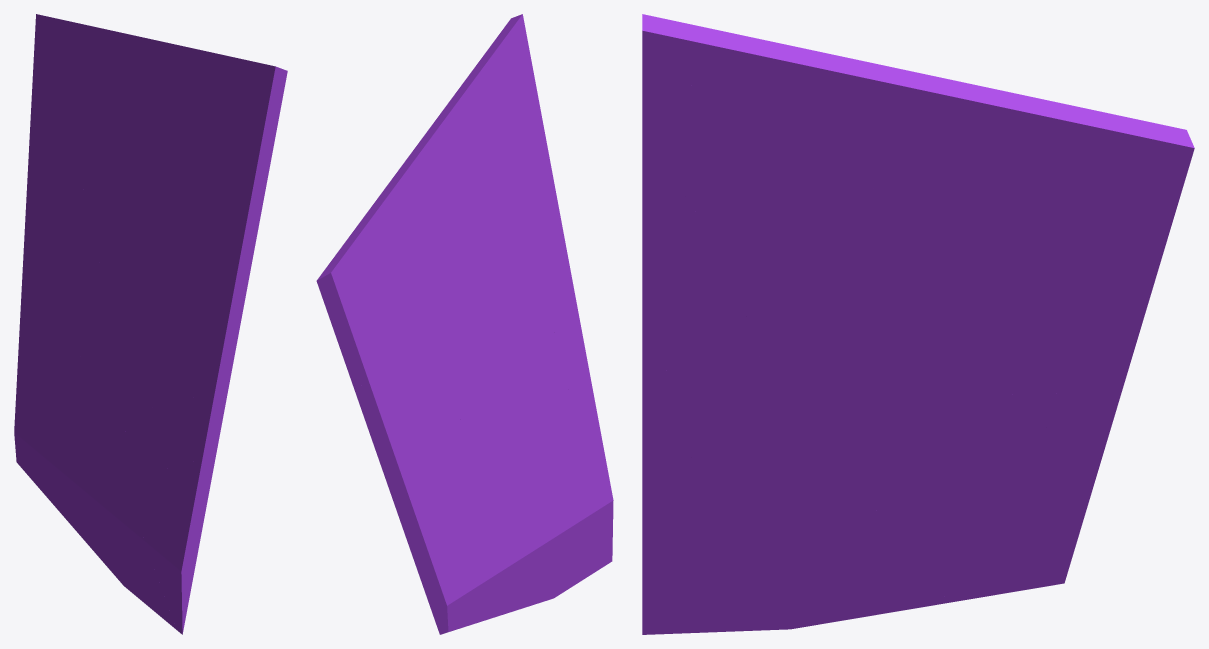
File: Window_1_7_chunks.fbx
3 views of the same model, side by side, from view 1: azimuth 30°, elevation 25°; view 2: azimuth 150°, elevation 25°; view 3: azimuth 270°, elevation 25° (orthographic). The views are drawn at different scales.
Parts seen in each view (by area): view 1: Window_1_7_7, Window_1_7_26, Window_1_7_6, Window_1_7_22, Window_1_7_17, Window_1_7_0, Window_1_7_19, Window_1_7_3, Window_1_7_20, Window_1_7_21, Window_1_7_24, Window_1_7_8 (+12 smaller); view 2: Window_1_7_7, Window_1_7_26, Window_1_7_6, Window_1_7_0, Window_1_7_3, Window_1_7_17, Window_1_7_19, Window_1_7_22, Window_1_7_20, Window_1_7_24, Window_1_7_8, Window_1_7_21 (+12 smaller); view 3: Window_1_7_7, Window_1_7_6, Window_1_7_26, Window_1_7_3, Window_1_7_2, Window_1_7_17, Window_1_7_22, Window_1_7_19, Window_1_7_10, Window_1_7_24, Window_1_7_25, Window_1_7_8 (+12 smaller).
Part boxes in pixels (x1,y1,x2,y2): Window_1_7_7: [28, 14, 178, 197]; Window_1_7_26: [140, 45, 266, 166]; Window_1_7_6: [23, 158, 101, 313]; Window_1_7_22: [191, 64, 287, 227]; Window_1_7_17: [123, 414, 192, 634]; Window_1_7_0: [17, 252, 113, 363]; Window_1_7_19: [112, 281, 179, 414]; Window_1_7_3: [14, 357, 76, 480]; Window_1_7_20: [146, 193, 208, 334]; Window_1_7_21: [195, 205, 262, 326]; Window_1_7_24: [112, 130, 161, 286]; Window_1_7_8: [53, 496, 165, 620]; Window_1_7_7: [316, 118, 445, 386]; Window_1_7_26: [430, 23, 515, 229]; Window_1_7_6: [353, 331, 473, 478]; Window_1_7_0: [386, 402, 493, 551]; Window_1_7_3: [402, 476, 489, 634]; Window_1_7_17: [521, 426, 613, 564]; Window_1_7_19: [486, 325, 541, 457]; Window_1_7_22: [501, 14, 548, 214]; Window_1_7_20: [492, 211, 546, 329]; Window_1_7_24: [442, 228, 491, 348]; Window_1_7_8: [484, 546, 595, 620]; Window_1_7_21: [525, 151, 564, 303]; Window_1_7_7: [861, 60, 1194, 275]; Window_1_7_6: [881, 264, 1156, 395]; Window_1_7_26: [658, 18, 916, 196]; Window_1_7_3: [935, 405, 1104, 590]; Window_1_7_2: [763, 387, 985, 520]; Window_1_7_17: [642, 438, 826, 634]; Window_1_7_22: [642, 14, 767, 206]; Window_1_7_19: [758, 343, 888, 453]; Window_1_7_10: [656, 513, 855, 634]; Window_1_7_24: [853, 211, 959, 354]; Window_1_7_25: [722, 131, 857, 332]; Window_1_7_8: [684, 558, 956, 633].
Bounding box in the file's own units: 213 × 1043 × 771.
